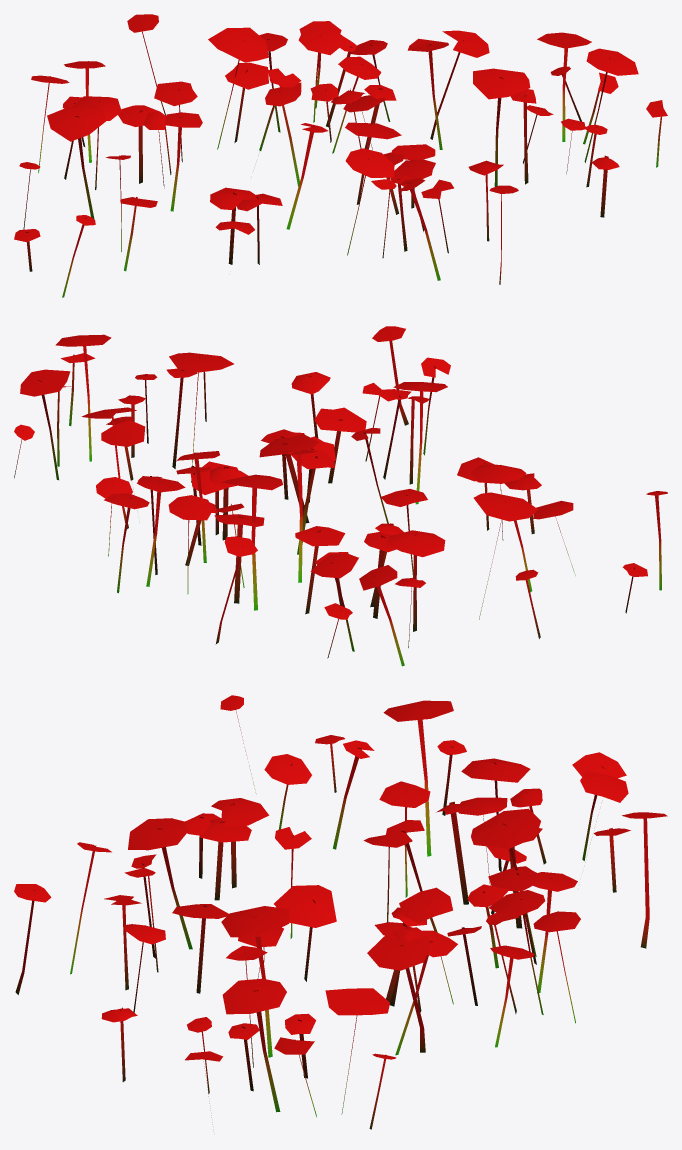
Rendered from Clover Varieties_LOD0_Var2_rbpof.fbx.
3 renders of one model, top to bottom at view 1: azimuth 30°, elevation 25°; view 2: azimuth 150°, elevation 25°; view 3: azimuth 270°, elevation 25°, orthographic. The views are drawn at different scales.
Parts seen in each view (by area): view 1: _576a_Var2_LOD0; view 2: _576a_Var2_LOD0; view 3: _576a_Var2_LOD0.
Boxes of the visible parts, <box> form: _576a_Var2_LOD0: <box>14,14,667,297</box>; _576a_Var2_LOD0: <box>14,326,667,666</box>; _576a_Var2_LOD0: <box>14,695,667,1131</box>.
Bounding box in the file's own units: 67.06 × 12.43 × 51.71.
